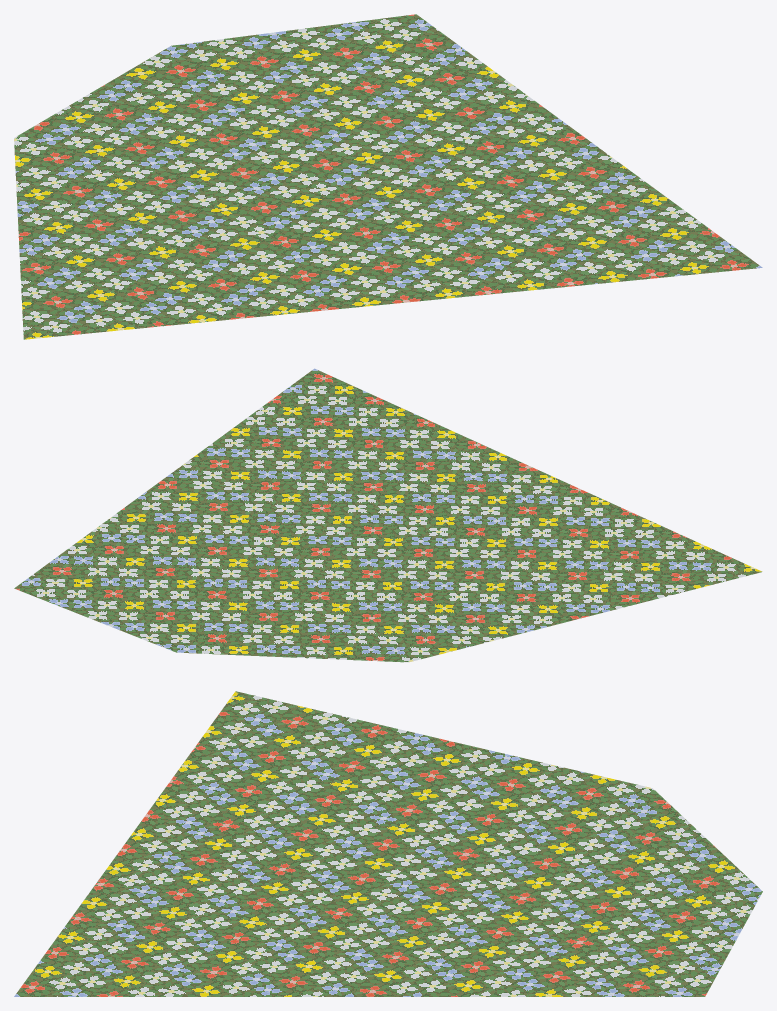
Rendered from kd_stage_1364a3_4_11_bounded.glb.
3 renders of one model, top to bottom at view 1: azimuth 30°, elevation 25°; view 2: azimuth 150°, elevation 25°; view 3: azimuth 270°, elevation 25°, orthographic. The views are drawn at different scales.
Parts seen in each view (by area): view 1: kd_stage_1364a3_4_11_bounded; view 2: kd_stage_1364a3_4_11_bounded; view 3: kd_stage_1364a3_4_11_bounded.
Boxes of the visible parts, x1,y1,x2,y2 form: kd_stage_1364a3_4_11_bounded: (14, 14, 762, 339); kd_stage_1364a3_4_11_bounded: (14, 368, 762, 662); kd_stage_1364a3_4_11_bounded: (14, 691, 762, 996).
Bounding box in the file's own units: 15.55 × 0 × 16.1.
1 material, 1 textured.
